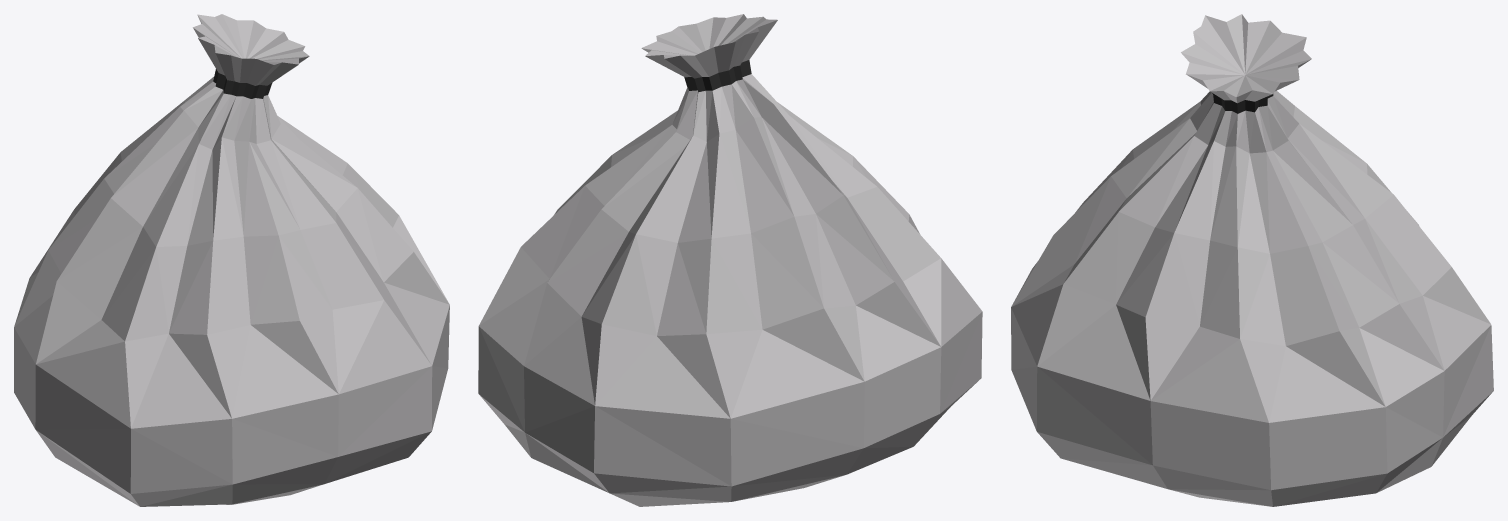
File: SM_trash_bag.gltf
The picture shows the model from 3 angles, left to right: view 1: azimuth 30°, elevation 25°; view 2: azimuth 150°, elevation 25°; view 3: azimuth 270°, elevation 25°; orthographic projection.
Visible parts, largest first — view 1: SM_trash_bag; view 2: SM_trash_bag; view 3: SM_trash_bag.
Boxes of the visible parts, <box> form: SM_trash_bag: <box>14,14,449,506</box>; SM_trash_bag: <box>478,14,982,506</box>; SM_trash_bag: <box>1011,14,1493,506</box>.
Bounding box in the file's own units: 0.8085 × 0.7923 × 0.8299.
1 material, 1 textured.
